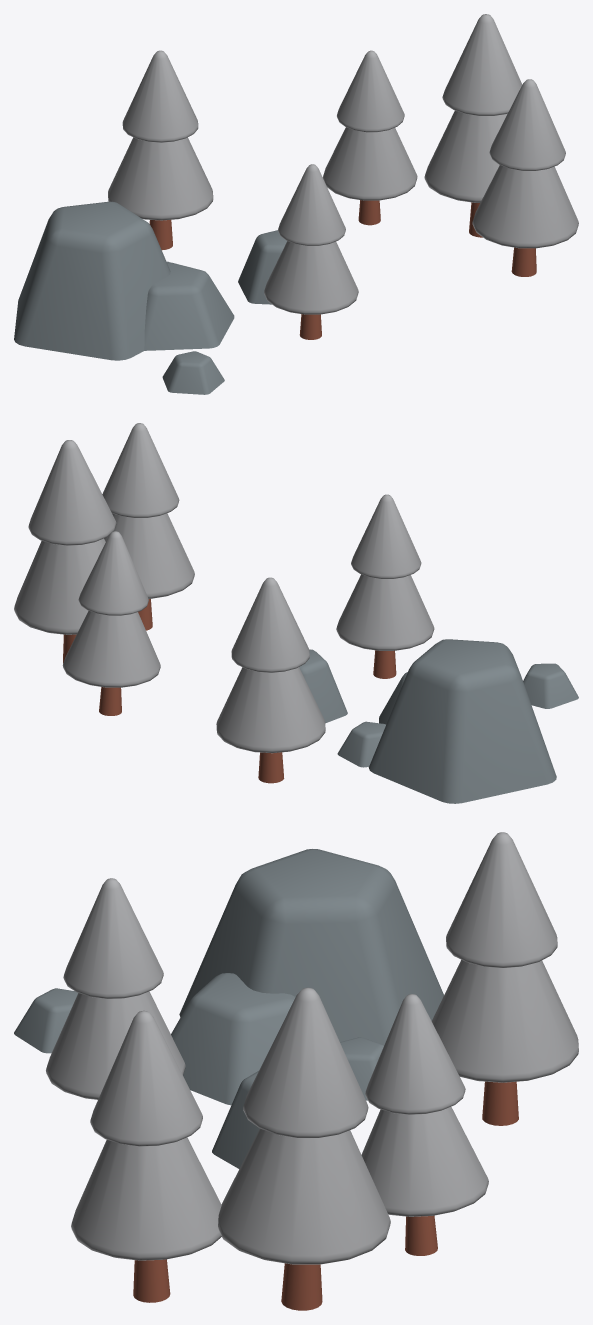
Rendered from hex_forest_waterC_empty.fbx.
3 renders of one model, top to bottom at view 1: azimuth 30°, elevation 25°; view 2: azimuth 150°, elevation 25°; view 3: azimuth 270°, elevation 25°, orthographic. The views are drawn at different scales.
Parts seen in each view (by area): view 1: detail_forestA.002, detail_forestA, detail_forestA.001; view 2: detail_forestA.002, detail_forestA, detail_forestA.001; view 3: detail_forestA.002, detail_forestA, detail_forestA.001.
Part boxes in pixels (bbox=[...]): detail_forestA.002: bbox=[108, 14, 578, 314]; detail_forestA: bbox=[14, 201, 286, 394]; detail_forestA.001: bbox=[149, 200, 536, 339]; detail_forestA.002: bbox=[14, 423, 434, 753]; detail_forestA: bbox=[299, 639, 578, 803]; detail_forestA.001: bbox=[63, 599, 396, 783]; detail_forestA.002: bbox=[46, 832, 578, 1264]; detail_forestA: bbox=[14, 849, 443, 1168]; detail_forestA.001: bbox=[133, 1081, 518, 1310].
Size of the model in its own units: 184 by 73.38 by 118.
